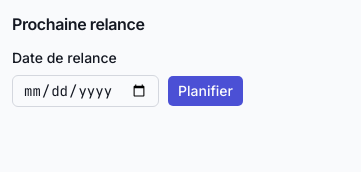
Test: FollowUpForm › affiche le refus renvoyé par l'action
Type "2026-11-01" into the date field labelled "Date de relance" at (86, 91), box [12,75,159,107]
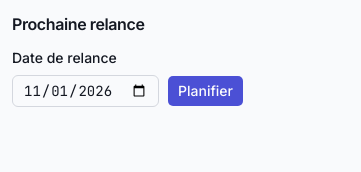
Click the button "Planifier" at (205, 91), box [167,75,244,107]
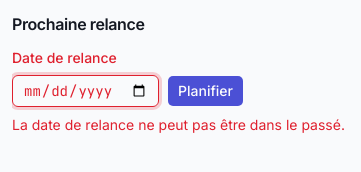
Expected: the message reads "La date de relance ne peut pas être dans le passé.", [12,116,345,133]
